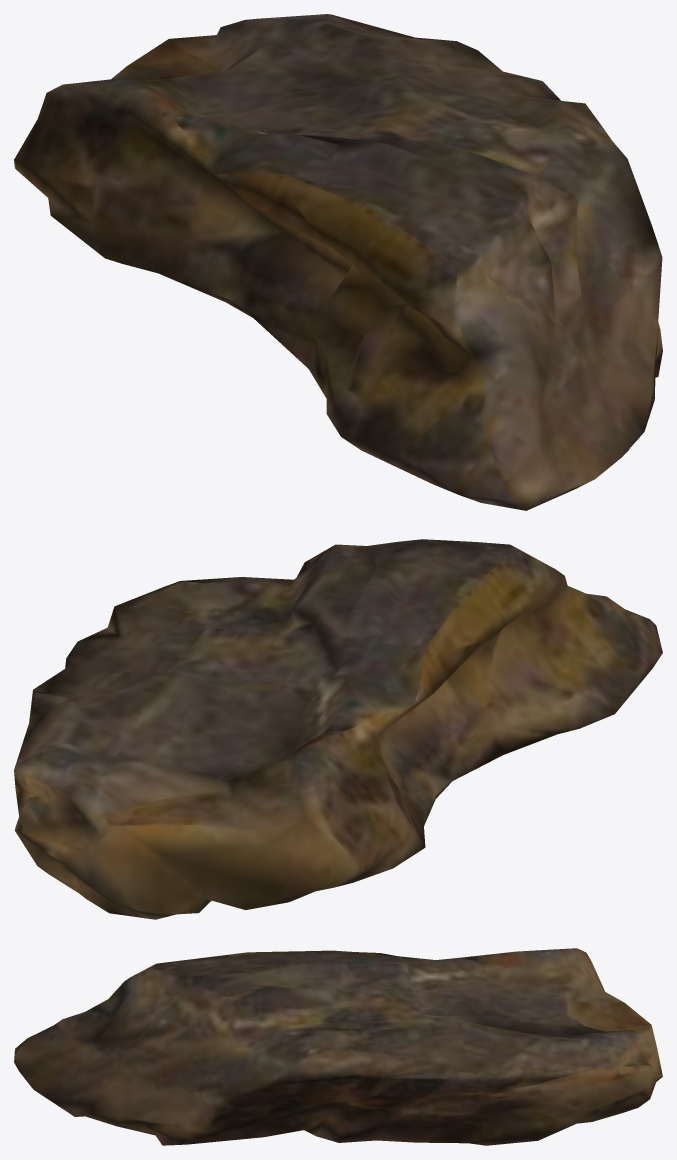
The model's file is rock-09.lite.a621c0f1.glb.
The picture shows the model from 3 angles, top to bottom: view 1: azimuth 30°, elevation 25°; view 2: azimuth 150°, elevation 25°; view 3: azimuth 270°, elevation 25°; orthographic projection. The views are drawn at different scales.
Parts seen in each view (by area): view 1: model; view 2: model; view 3: model.
Part boxes in pixels (left/top/right/bottom): model: left=14, top=14, right=662, bottom=510; model: left=14, top=539, right=662, bottom=919; model: left=14, top=948, right=662, bottom=1145.
Bounding box in the file's own units: 0.0738 × 0.0326 × 0.1442.
1 material, 1 textured.
